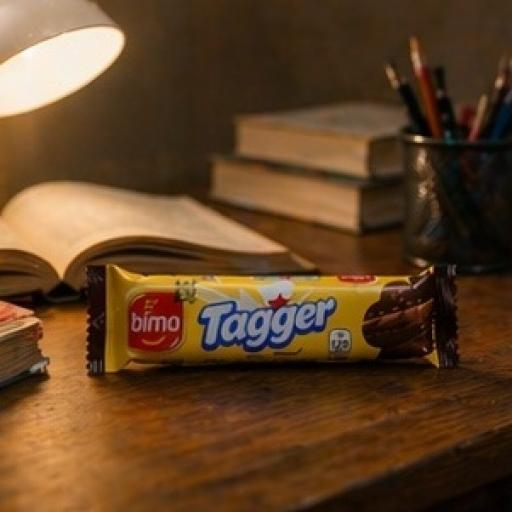tagger: (65, 250, 510, 424)
